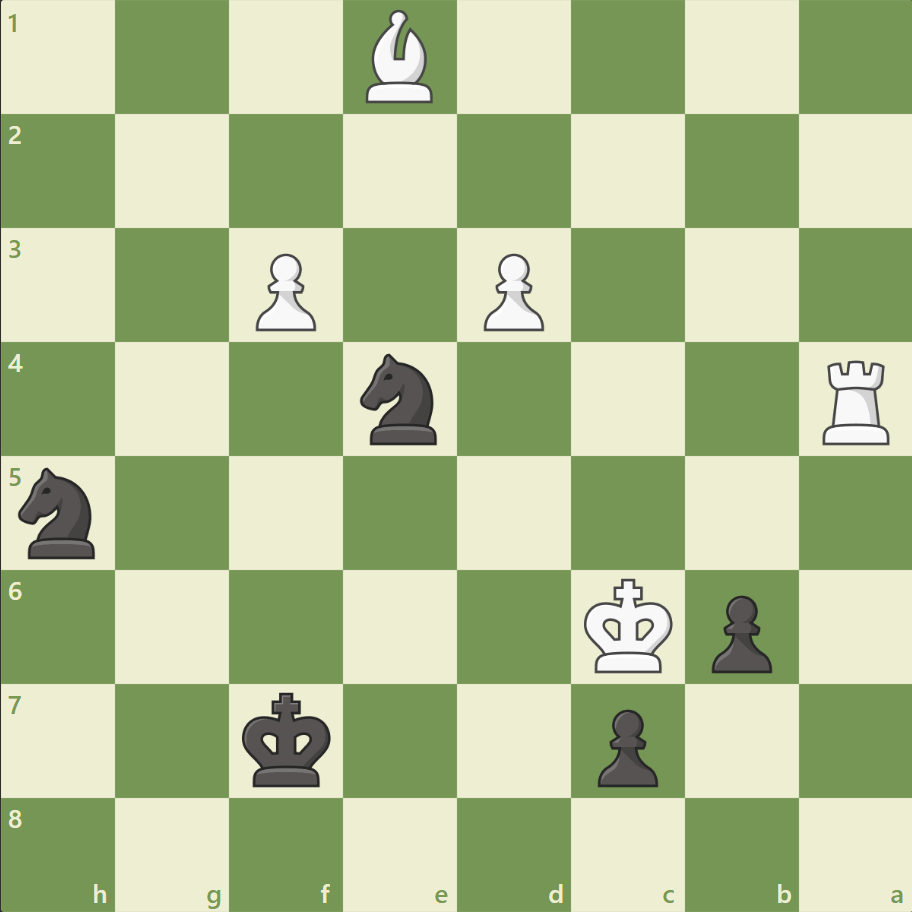B: (358, 6, 442, 109)
K: (579, 571, 679, 679)
P: (474, 246, 549, 337), (247, 246, 322, 337)
R: (814, 352, 897, 449)
k: (238, 685, 338, 793)
n: (351, 348, 449, 450), (11, 461, 108, 564)
p: (701, 586, 776, 677), (588, 700, 662, 791)
